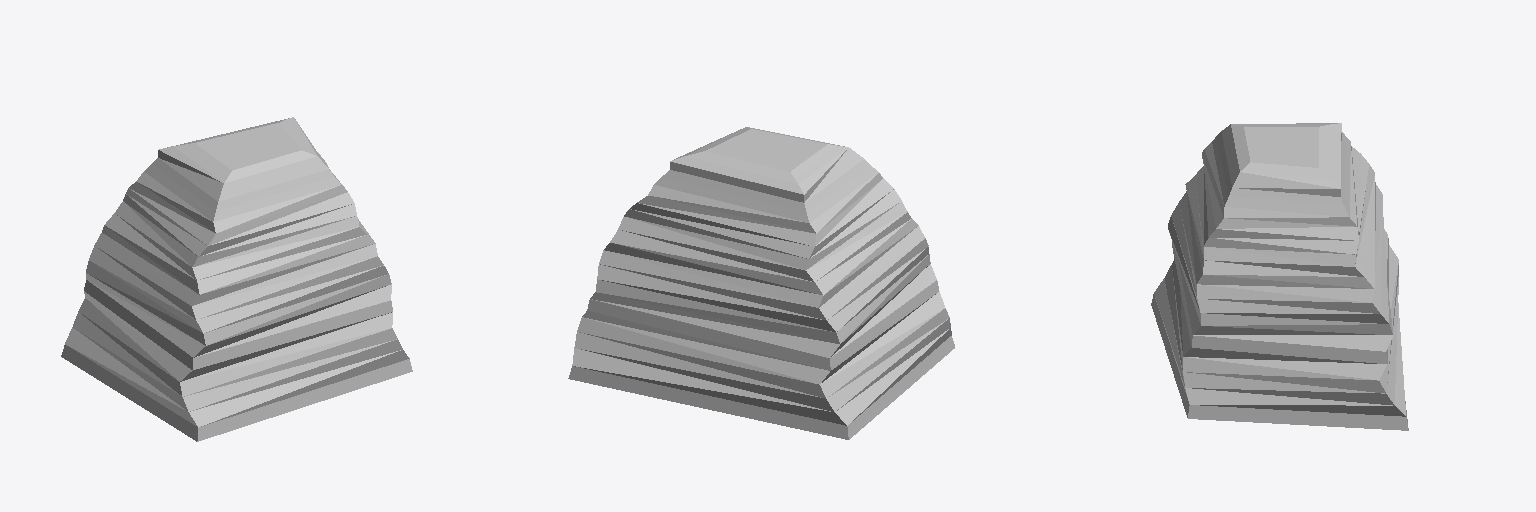
Rendered from sedementary rock.obj.
3 renders of one model, left to right at view 1: azimuth 30°, elevation 25°; view 2: azimuth 150°, elevation 25°; view 3: azimuth 270°, elevation 25°, orthographic.
Parts seen in each view (by area): view 1: group4; view 2: group4; view 3: group4.
Boxes of the visible parts, box(x1,y1,x2,y2) form: group4: box(61, 117, 412, 441); group4: box(568, 127, 954, 439); group4: box(1151, 123, 1408, 430).
Bounding box in the file's own units: 6.28 × 4.74 × 5.08.